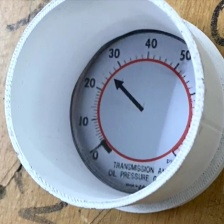gauge: (71, 31, 203, 194)
